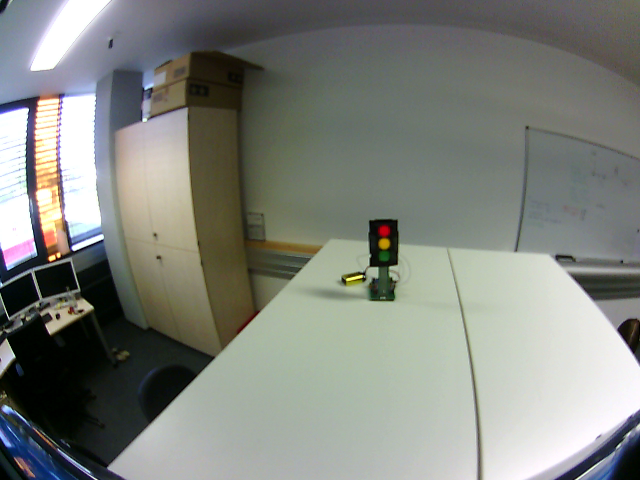red yellow trafficlight: (374, 221, 394, 264)
